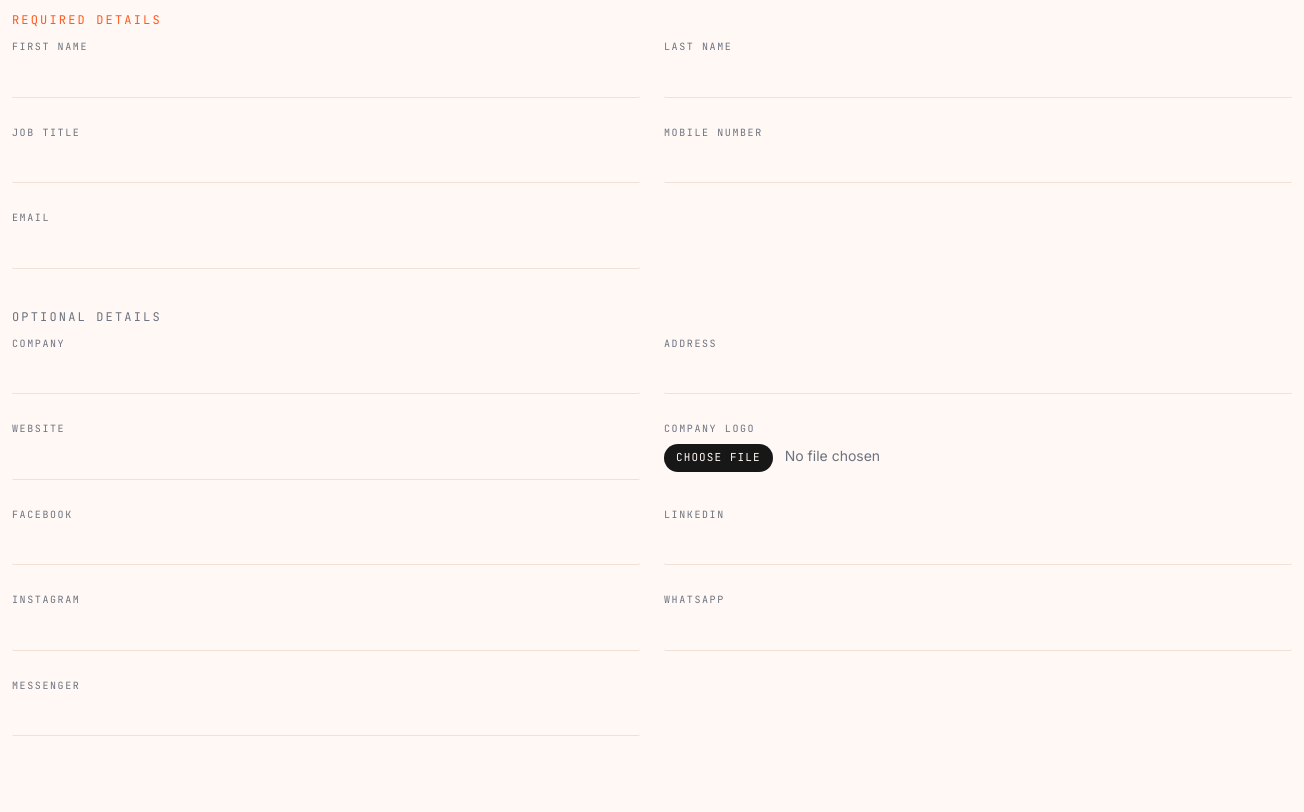
InfoForm › shows an inline error for an invalid email
The width and height of the screenshot is (1304, 812).
Type "not-an-email" into the field labelled "Email" at (326, 251), box [12,233,640,268]
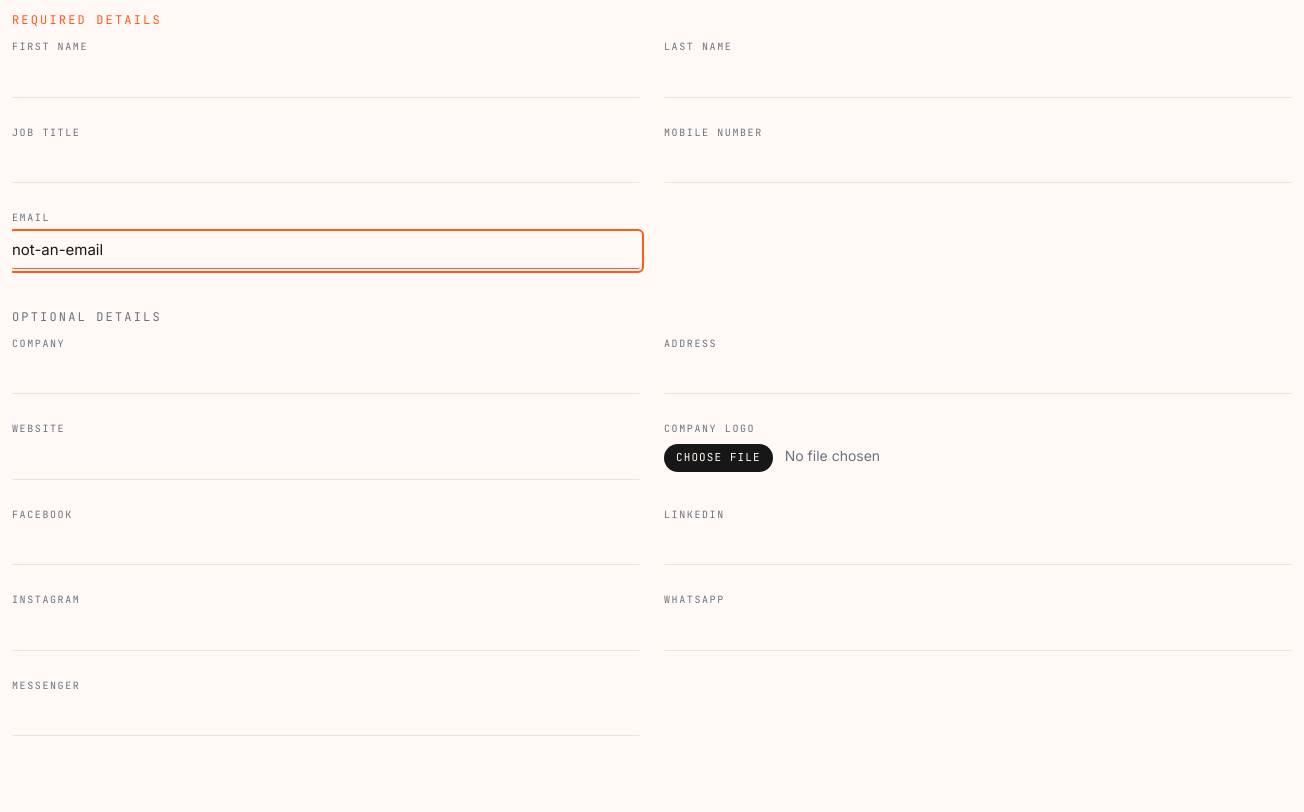
Leave the field labelled "Email", box [12,233,640,268]
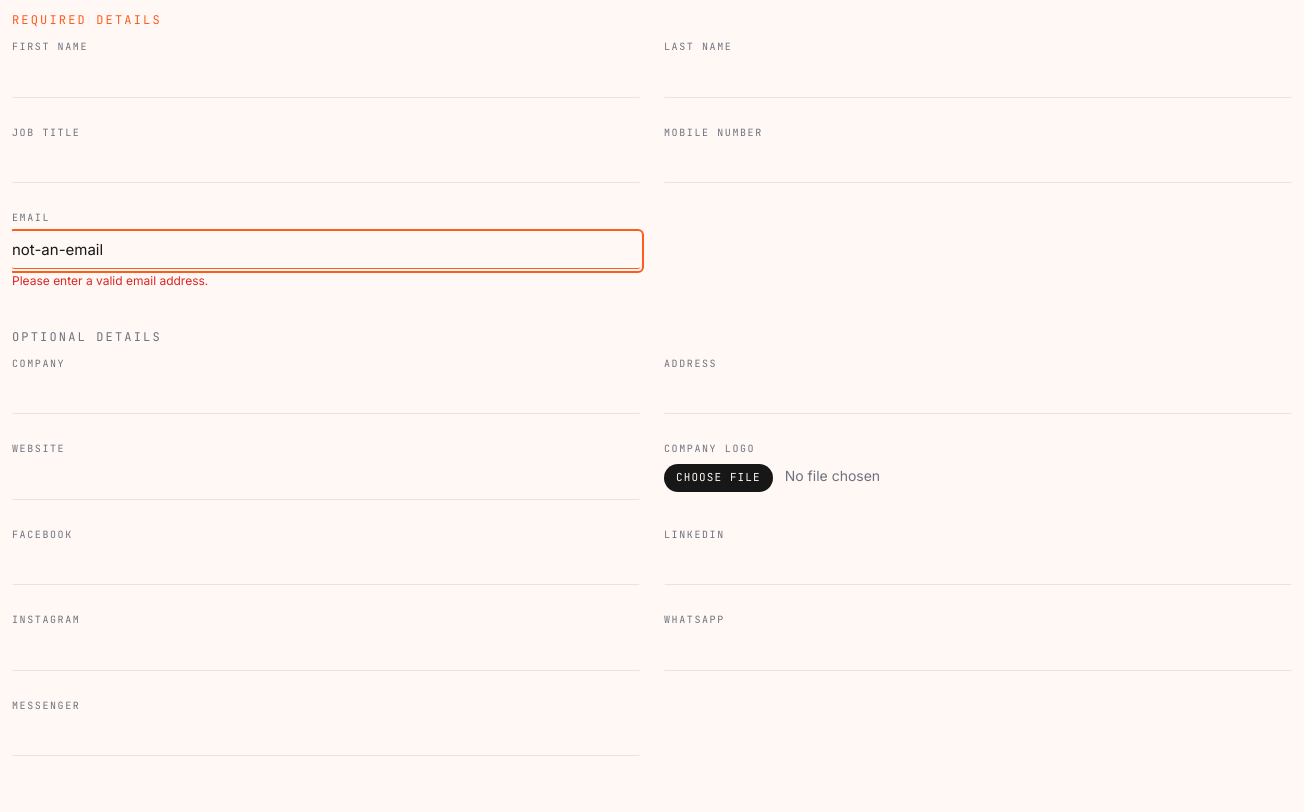
Now the text "Please enter a valid email address." is shown, box [12,272,208,288]
